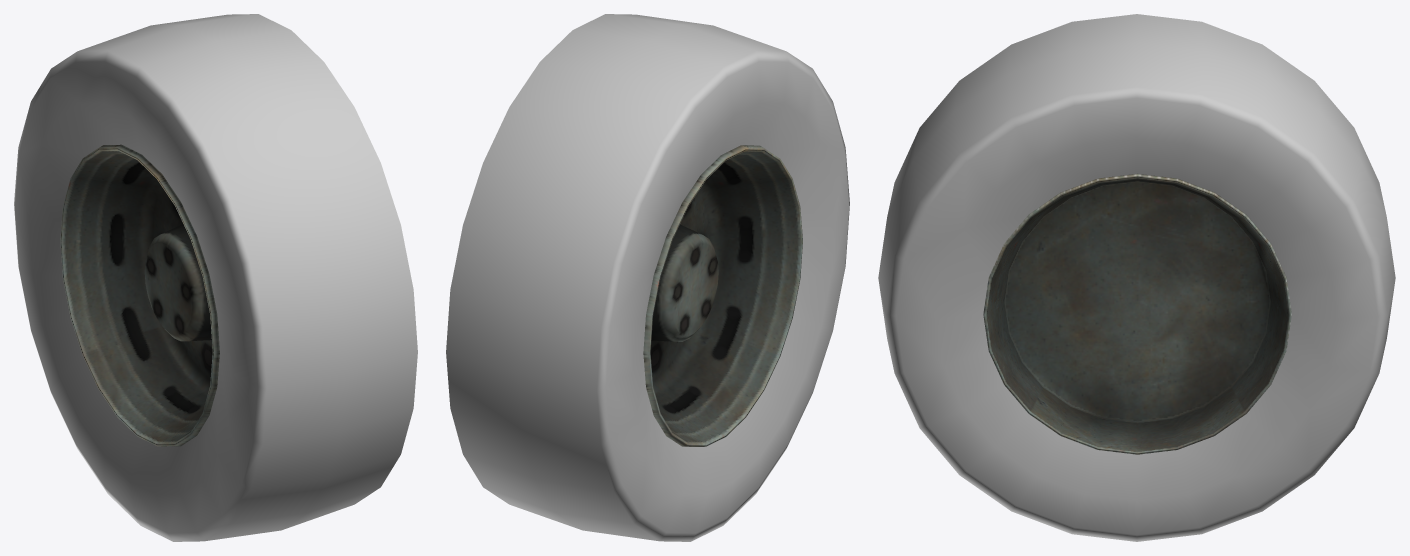
The model's file is reifen_rechts.fbx.
3 renders of one model, left to right at view 1: azimuth 30°, elevation 25°; view 2: azimuth 150°, elevation 25°; view 3: azimuth 270°, elevation 25°, orthographic.
Parts seen in each view (by area): view 1: Mesh; view 2: Mesh; view 3: Mesh.
Boxes of the visible parts, left/top/right/bottom form: Mesh: left=14, top=14, right=417, bottom=541; Mesh: left=446, top=14, right=849, bottom=541; Mesh: left=878, top=14, right=1395, bottom=541.
Size of the model in its own units: 26.55 by 69.81 by 69.81.
